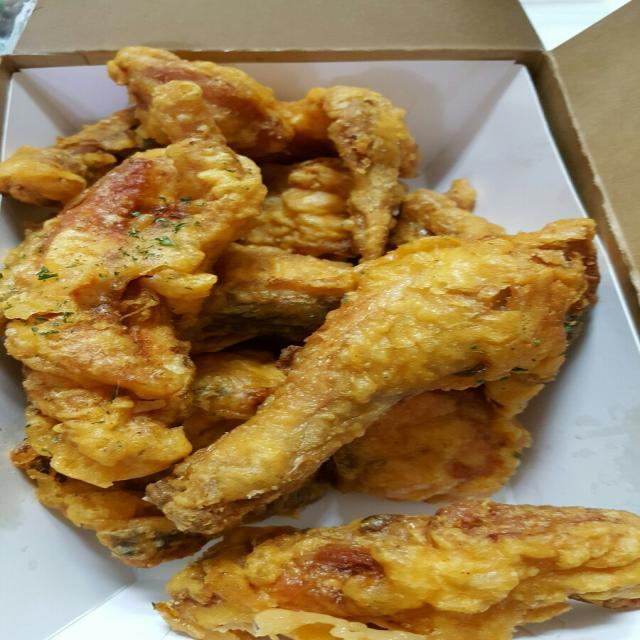Frango: (0, 66, 640, 633)
